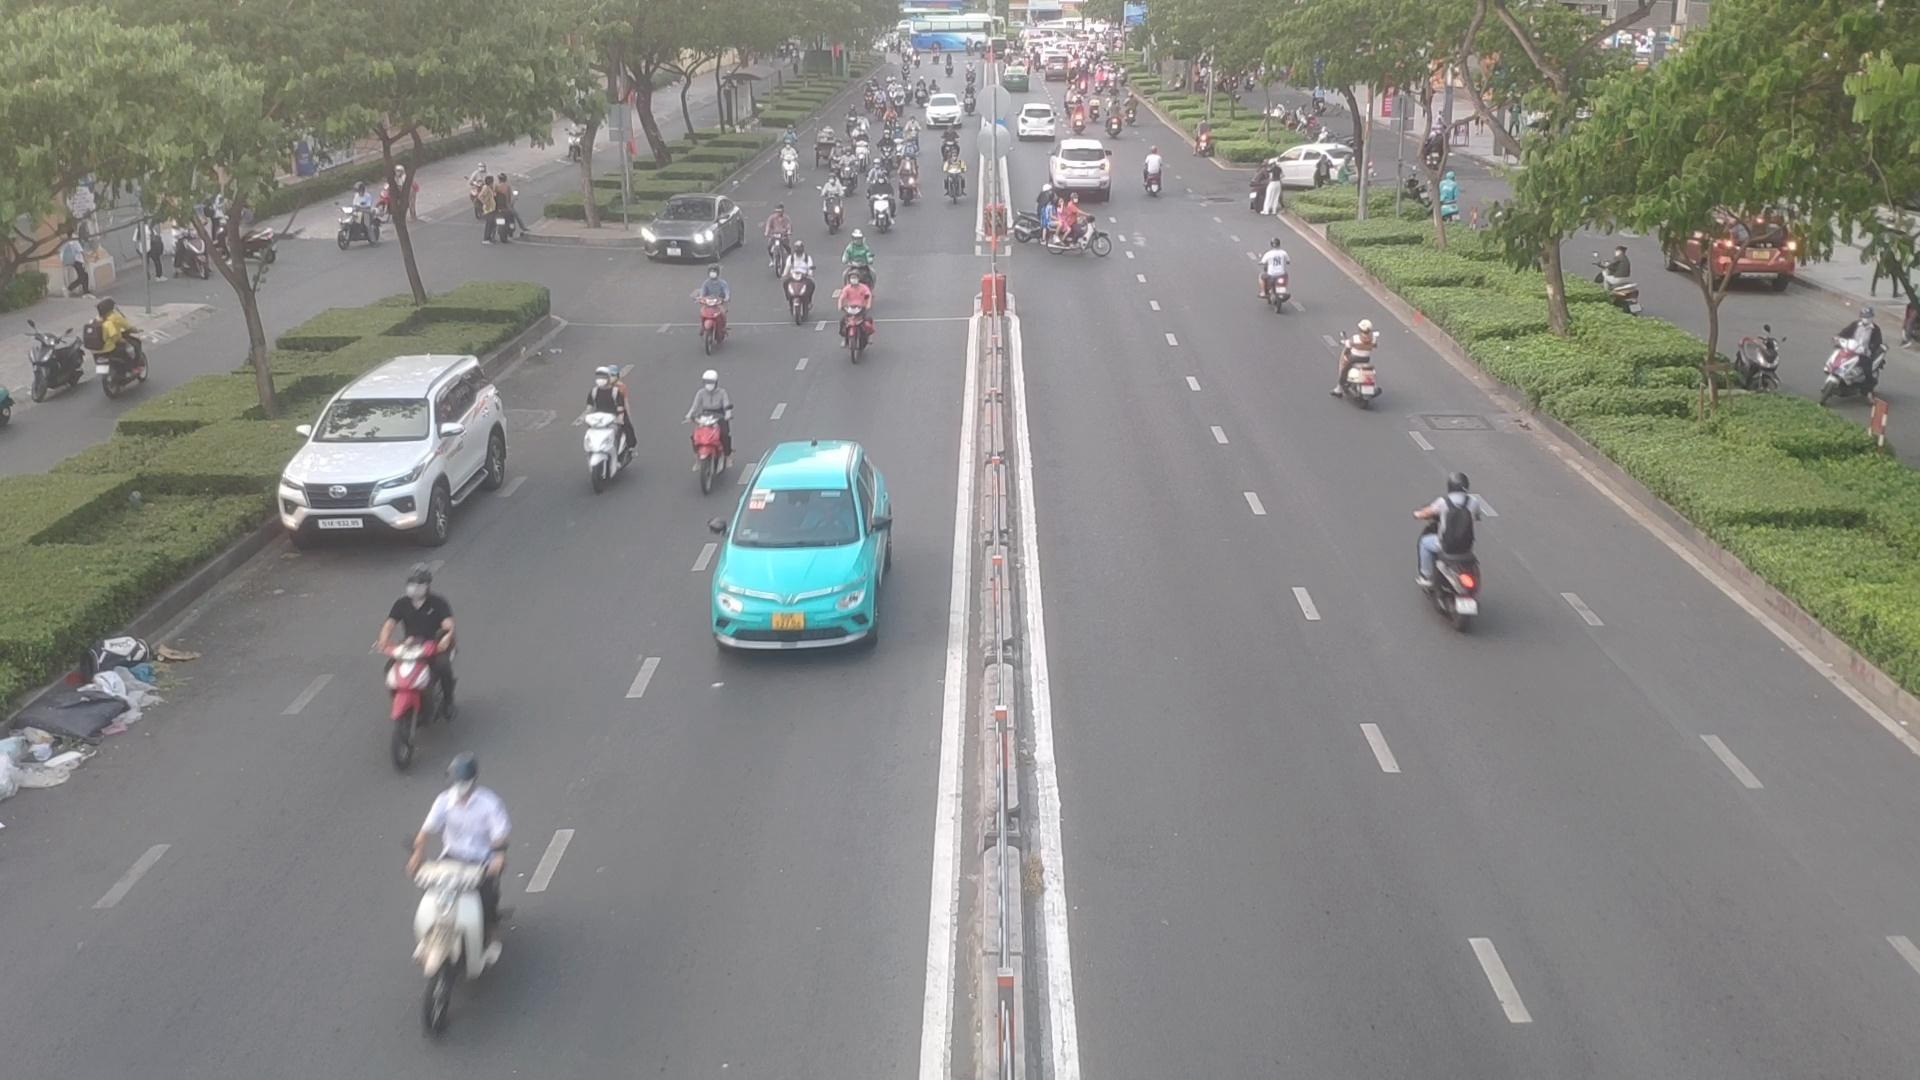car: (272, 349, 518, 541), (712, 433, 905, 645), (636, 195, 746, 262), (1258, 142, 1374, 194), (1052, 138, 1116, 191)
motorbike: (398, 761, 524, 1018), (371, 556, 463, 735), (1404, 467, 1494, 649), (578, 349, 637, 473), (1034, 195, 1116, 264), (688, 361, 728, 496), (698, 264, 738, 353), (1338, 318, 1378, 407), (844, 281, 884, 351), (1261, 243, 1295, 307), (791, 236, 816, 313), (862, 179, 897, 235), (816, 171, 844, 227), (767, 208, 793, 266), (843, 224, 862, 284), (938, 154, 963, 196), (837, 152, 858, 194), (898, 157, 916, 203), (1146, 146, 1162, 198), (940, 125, 961, 164), (783, 142, 800, 187), (878, 129, 898, 164), (856, 131, 872, 171), (833, 137, 848, 170)
